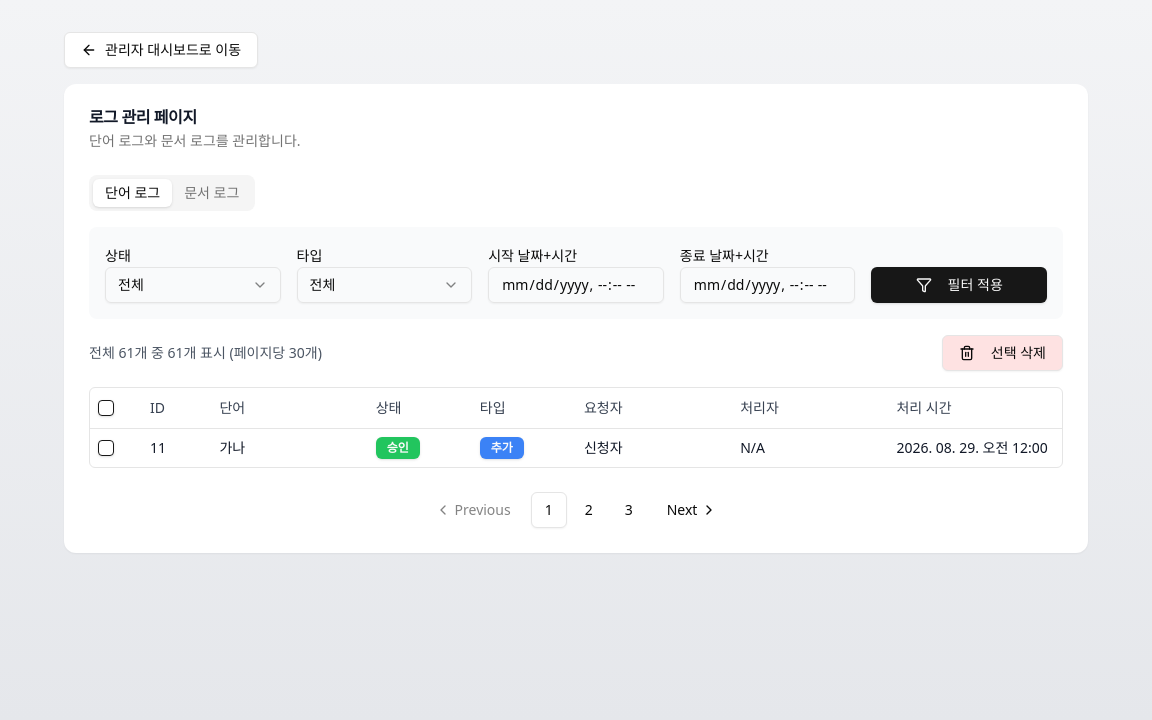
AdminLogsHome › keeps the word-log selection and renders only the stable Modal on failure
The image size is (1152, 720).
Click the checkbox named "로그 11 선택": (106, 448) [98, 440, 114, 456]
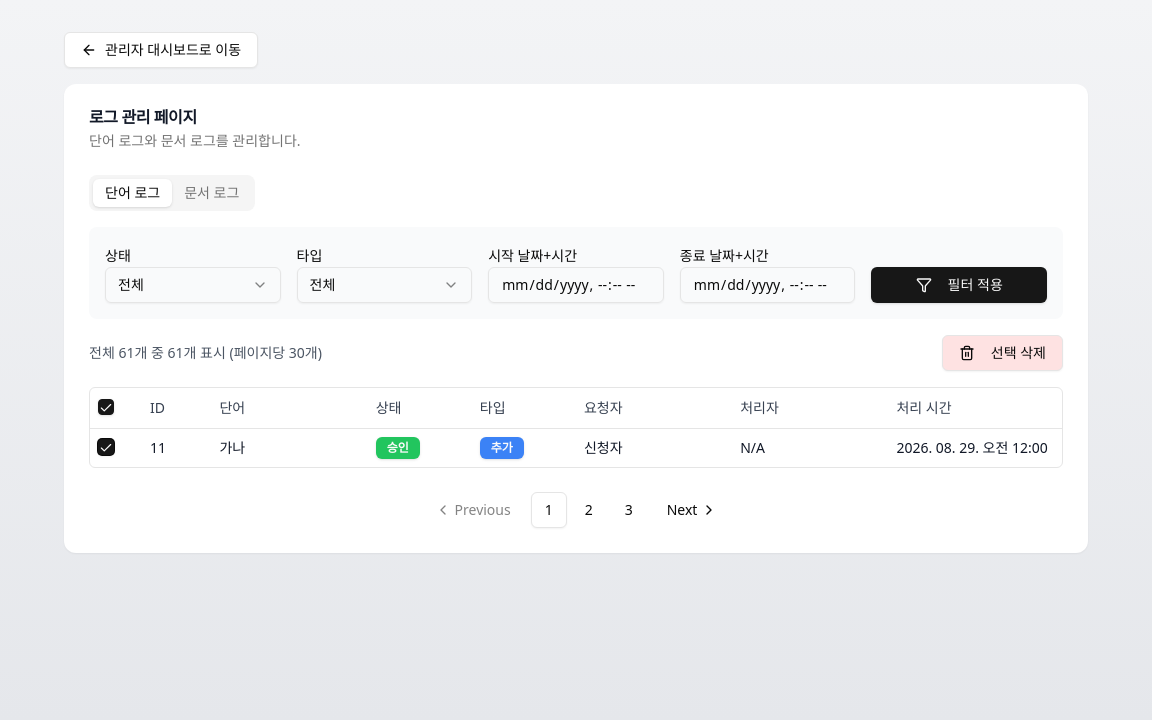
Click the button "선택 삭제": (1002, 353) [942, 335, 1063, 371]
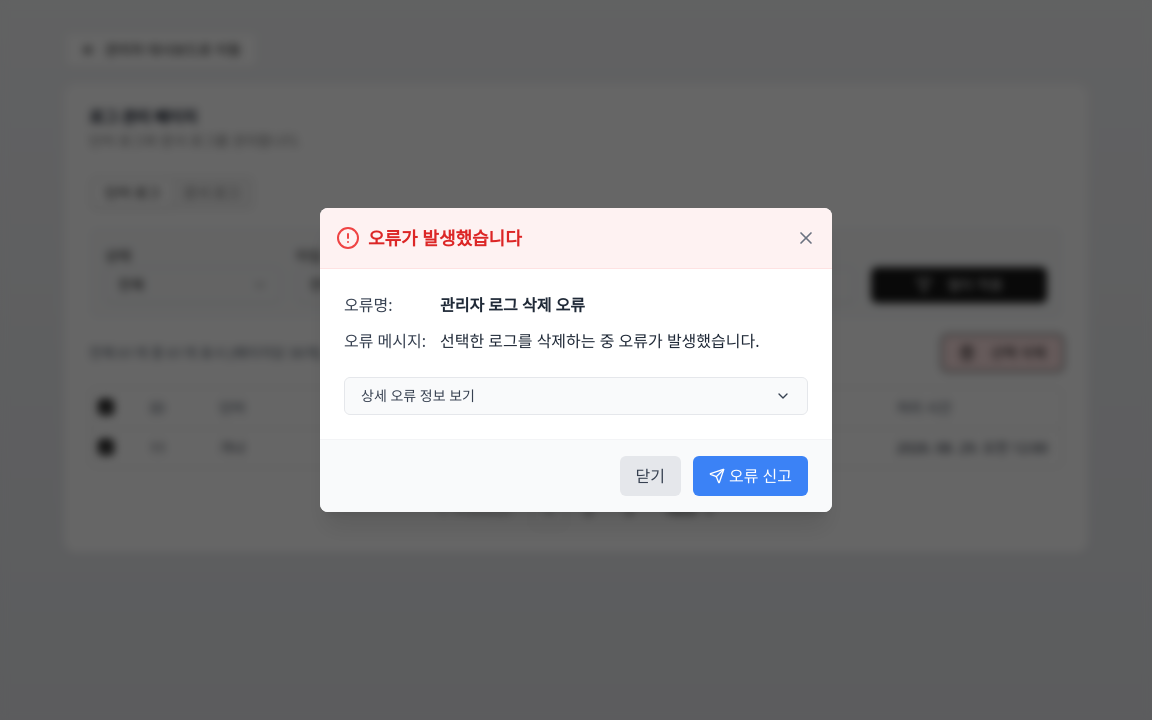
Now the checkbox named "로그 11 선택" is checked, box [98, 438, 114, 454]
Now the text "선택한 로그를 삭제하는 중 오류가 발생했습니다." is shown, box [440, 329, 760, 353]
